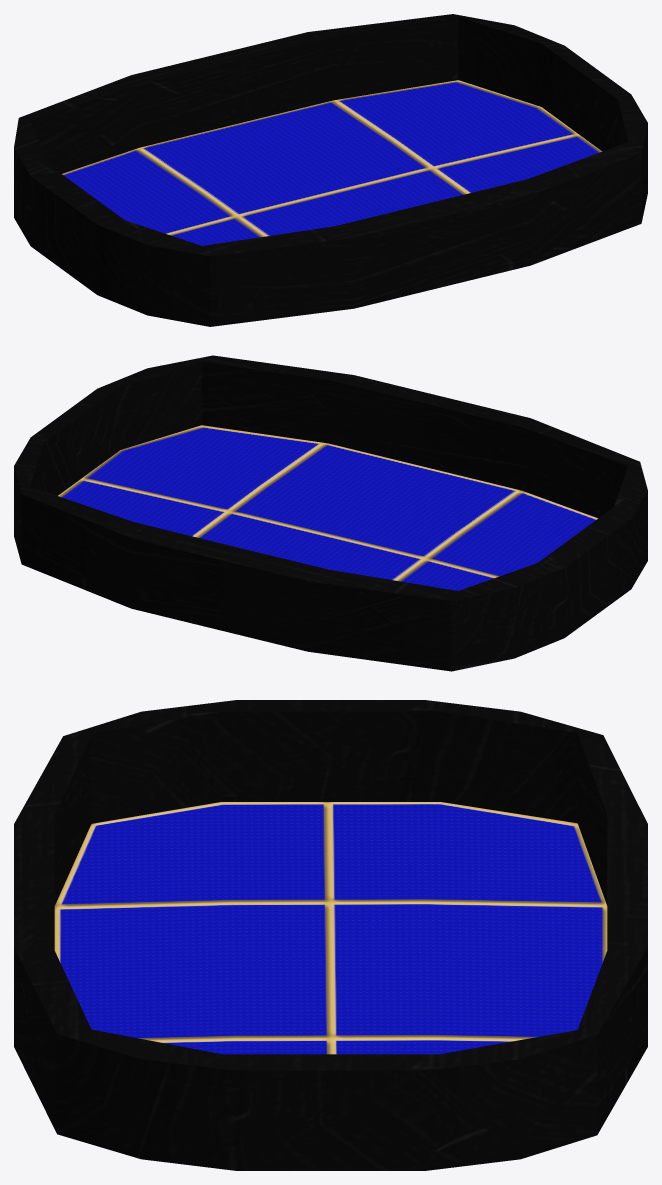
File: GameBoard.fbx
The picture shows the model from 3 angles, top to bottom: view 1: azimuth 30°, elevation 25°; view 2: azimuth 150°, elevation 25°; view 3: azimuth 270°, elevation 25°; orthographic projection. The views are drawn at different scales.
Visible parts, largest first — view 1: pCube1; view 2: pCube1; view 3: pCube1.
Boxes of the visible parts, box(x1,y1,x2,y2) form: pCube1: box(14, 14, 647, 326); pCube1: box(14, 355, 647, 671); pCube1: box(14, 700, 647, 1170).
Bounding box in the file's own units: 695 × 91.05 × 502.
1 material, 1 textured.
